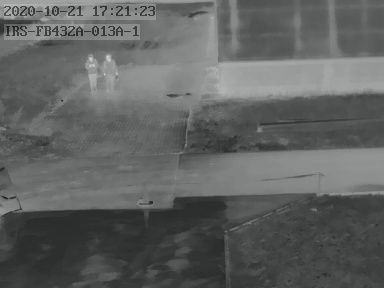person: (83, 54, 100, 91), (102, 54, 119, 88)
